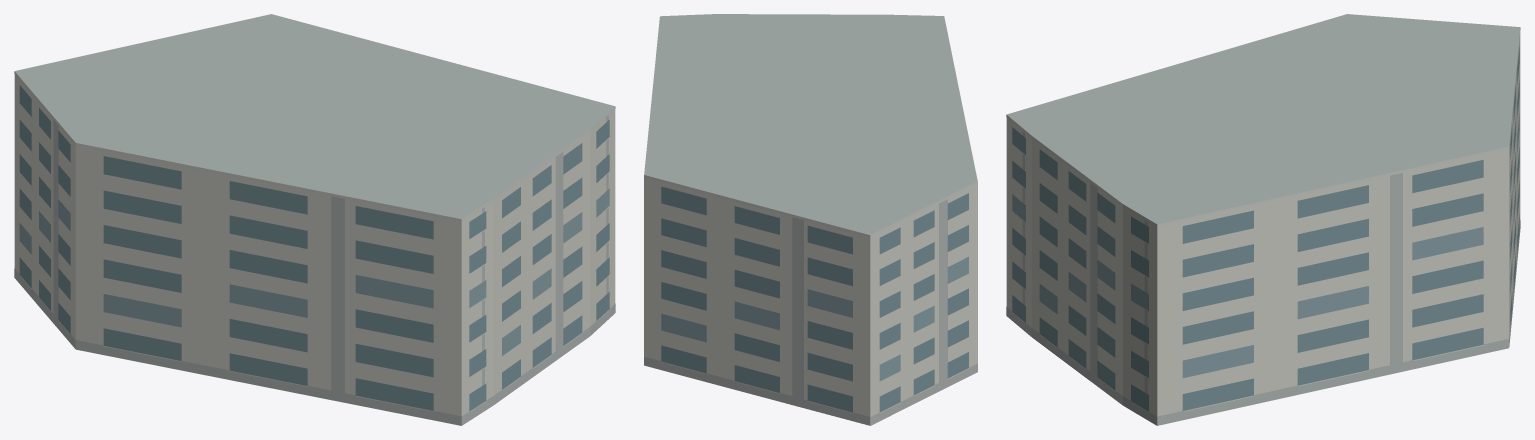
Rendered from survey-upis-32813875.glb.
The picture shows the model from 3 angles, left to right: view 1: azimuth 30°, elevation 25°; view 2: azimuth 150°, elevation 25°; view 3: azimuth 270°, elevation 25°; orthographic projection. The views are drawn at different scales.
Parts seen in each view (by area): view 1: survey-upis-32813875.tmp; view 2: survey-upis-32813875.tmp; view 3: survey-upis-32813875.tmp.
Boxes of the visible parts, bbox=[...] form: survey-upis-32813875.tmp: bbox=[14, 14, 615, 425]; survey-upis-32813875.tmp: bbox=[644, 14, 977, 425]; survey-upis-32813875.tmp: bbox=[1006, 14, 1520, 425].
Size of the model in its own units: 40.98 by 18.3 by 42.3.
